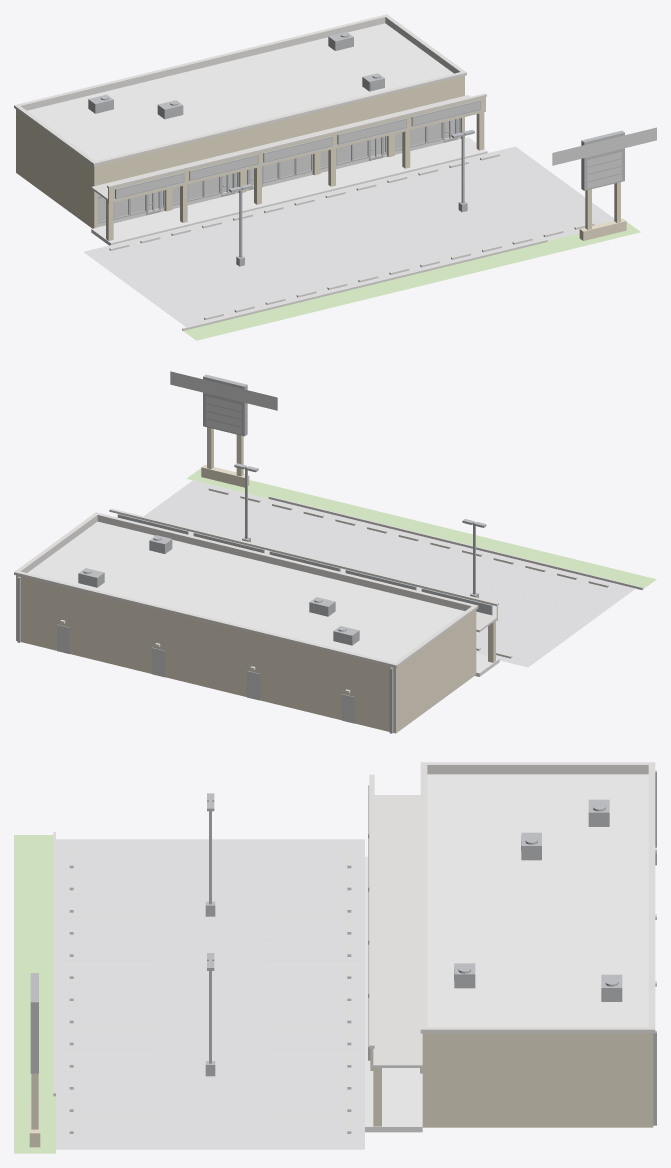
Rendered from retail_strip5.glb.
3 renders of one model, top to bottom at view 1: azimuth 30°, elevation 25°; view 2: azimuth 150°, elevation 25°; view 3: azimuth 270°, elevation 25°, orthographic. The views are drawn at different scales.
Parts seen in each view (by area): view 1: retail_strip5_Asphalt, retail_strip5_Roof, retail_strip5_Walls, retail_strip5_Trim, retail_strip5_Site, retail_strip5_Lawn, retail_strip5_Frames, retail_strip5_WindowsLit, retail_strip5_Sign, retail_strip5_Details, retail_strip5_Paint, retail_strip5_Brand; view 2: retail_strip5_Walls, retail_strip5_Asphalt, retail_strip5_Roof, retail_strip5_Trim, retail_strip5_Lawn, retail_strip5_Details, retail_strip5_Frames, retail_strip5_Brand, retail_strip5_Doors, retail_strip5_Sign, retail_strip5_Paint; view 3: retail_strip5_Asphalt, retail_strip5_Roof, retail_strip5_Trim, retail_strip5_Walls, retail_strip5_Lawn, retail_strip5_Details, retail_strip5_Paint, retail_strip5_Site, retail_strip5_Frames.
Boxes of the visible parts, x1,y1,x2,y2 form: retail_strip5_Asphalt: [83, 146, 614, 327]; retail_strip5_Roof: [27, 23, 453, 160]; retail_strip5_Walls: [16, 76, 626, 240]; retail_strip5_Trim: [14, 14, 594, 330]; retail_strip5_Site: [91, 137, 487, 245]; retail_strip5_Lawn: [183, 222, 640, 340]; retail_strip5_Frames: [97, 100, 624, 223]; retail_strip5_WindowsLit: [97, 118, 459, 221]; retail_strip5_Sign: [116, 101, 621, 197]; retail_strip5_Details: [88, 32, 474, 266]; retail_strip5_Paint: [100, 151, 601, 323]; retail_strip5_Brand: [552, 127, 656, 165]; retail_strip5_Walls: [16, 427, 497, 733]; retail_strip5_Asphalt: [144, 480, 635, 667]; retail_strip5_Roof: [28, 521, 464, 662]; retail_strip5_Trim: [14, 487, 643, 667]; retail_strip5_Lawn: [186, 468, 656, 588]; retail_strip5_Details: [17, 463, 486, 733]; retail_strip5_Frames: [117, 374, 492, 615]; retail_strip5_Brand: [170, 371, 277, 410]; retail_strip5_Doors: [57, 624, 354, 723]; retail_strip5_Sign: [206, 396, 241, 434]; retail_strip5_Paint: [173, 485, 618, 662]; retail_strip5_Asphalt: [56, 839, 364, 1149]; retail_strip5_Roof: [427, 774, 648, 1026]; retail_strip5_Trim: [53, 762, 655, 1133]; retail_strip5_Walls: [29, 1033, 653, 1147]; retail_strip5_Lawn: [14, 835, 55, 1153]; retail_strip5_Details: [205, 770, 656, 1125]; retail_strip5_Paint: [61, 850, 359, 1138]; retail_strip5_Site: [365, 856, 422, 1132]; retail_strip5_Frames: [30, 785, 370, 1073].
Bounding box in the file's own units: 151 × 30.9 × 123.
